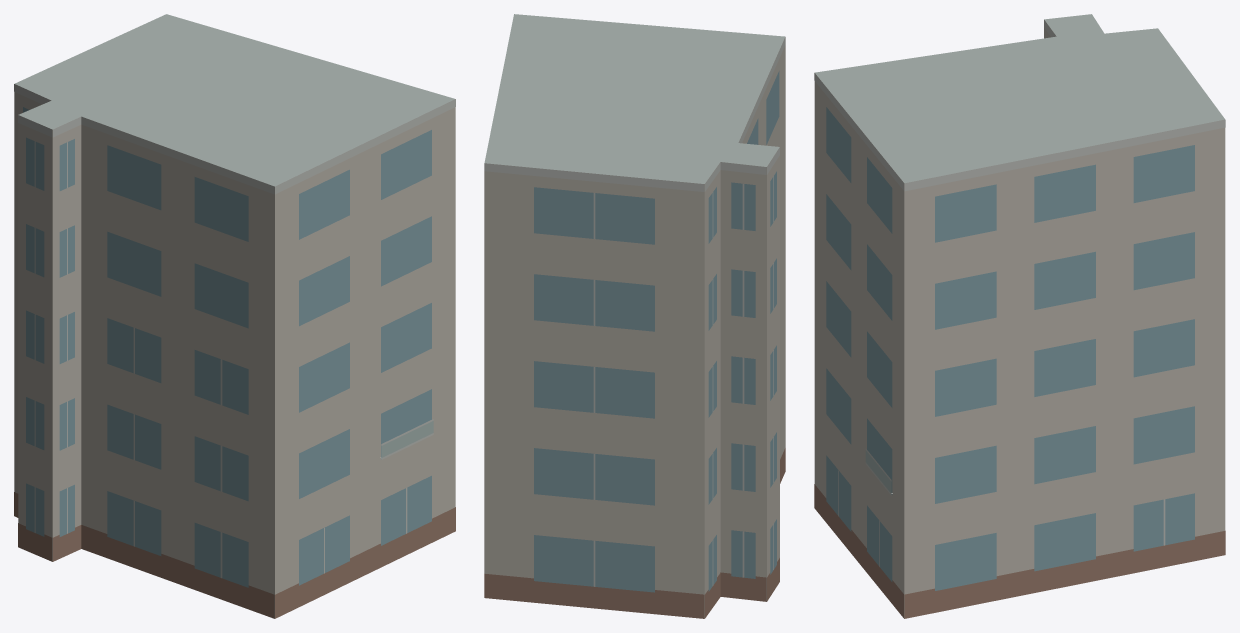
Rendered from survey-upis-32919715.glb.
3 renders of one model, left to right at view 1: azimuth 30°, elevation 25°; view 2: azimuth 150°, elevation 25°; view 3: azimuth 270°, elevation 25°, orthographic.
Parts seen in each view (by area): view 1: survey-upis-32919715.tmp; view 2: survey-upis-32919715.tmp; view 3: survey-upis-32919715.tmp.
Boxes of the visible parts, x1,y1,x2,y2 form: survey-upis-32919715.tmp: [14, 14, 455, 618]; survey-upis-32919715.tmp: [484, 14, 785, 618]; survey-upis-32919715.tmp: [814, 14, 1225, 618].
Size of the model in its own units: 11.02 by 13.2 by 11.3.
